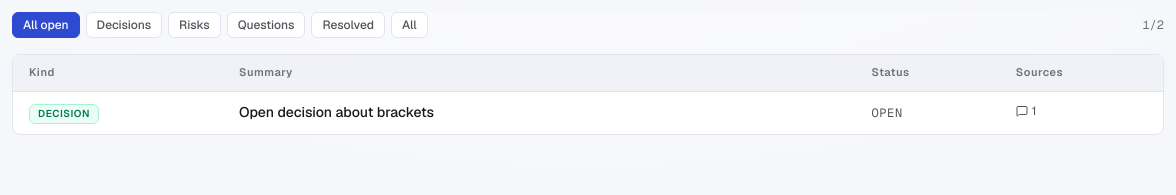
it: DecisionsBoard › a resolved signal appears in All but not in the open Decisions filter
Click the button "All": [409, 25] box top-left (391, 12), bottom-right (428, 38)
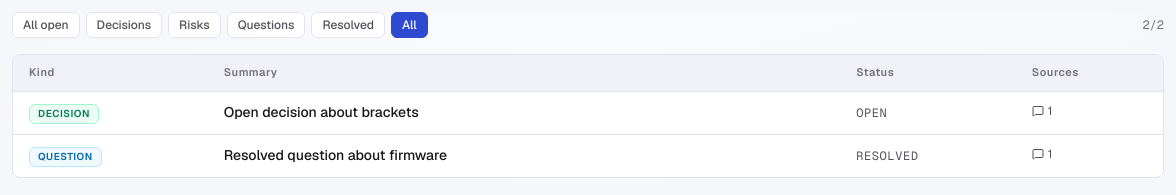
Expected: the text "Open decision about brackets" is shown, top-left (224, 103), bottom-right (419, 121)
Expected: the text "Resolved question about firmware" is shown, top-left (224, 146), bottom-right (447, 164)
